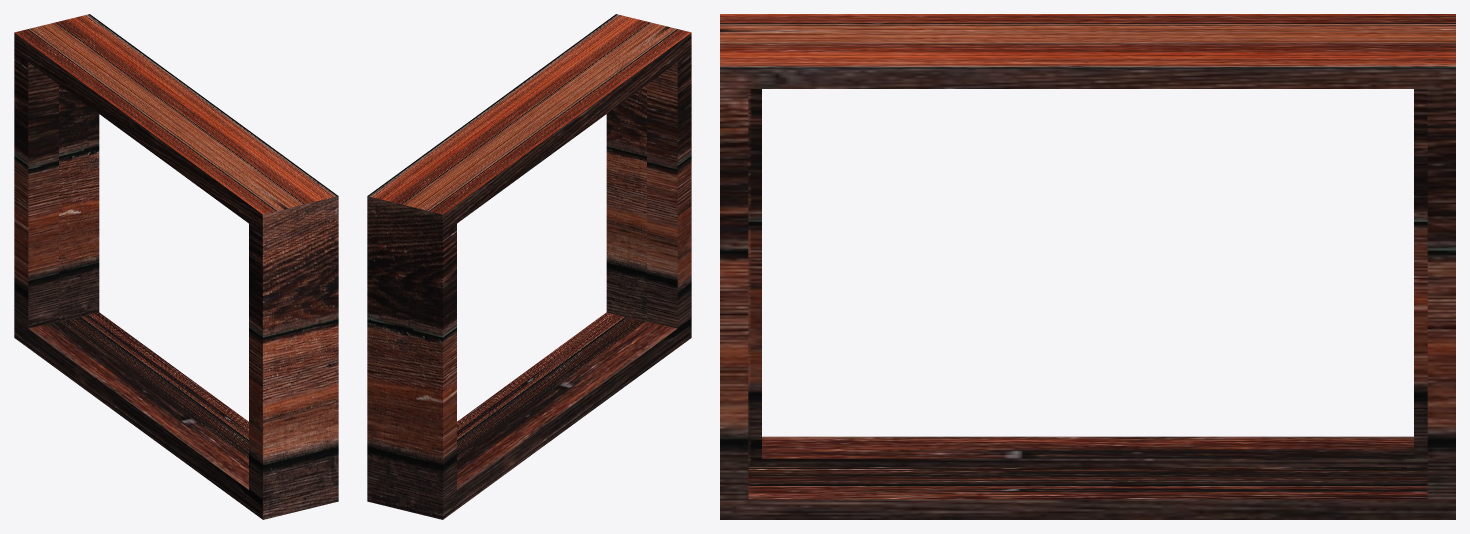
Rendered from window 1.fbx.
The picture shows the model from 3 angles, left to right: view 1: azimuth 30°, elevation 25°; view 2: azimuth 150°, elevation 25°; view 3: azimuth 270°, elevation 25°; orthographic projection. The views are drawn at different scales.
Visible parts, largest first — view 1: window; view 2: window; view 3: window.
Part boxes in pixels (x1=…): window: x1=14, y1=14, x2=338, y2=519; window: x1=367, y1=14, x2=691, y2=519; window: x1=720, y1=14, x2=1455, y2=519.
Bounding box in the file's own units: 114 × 440 × 650.
Materials: 1 (1 with a texture image).
